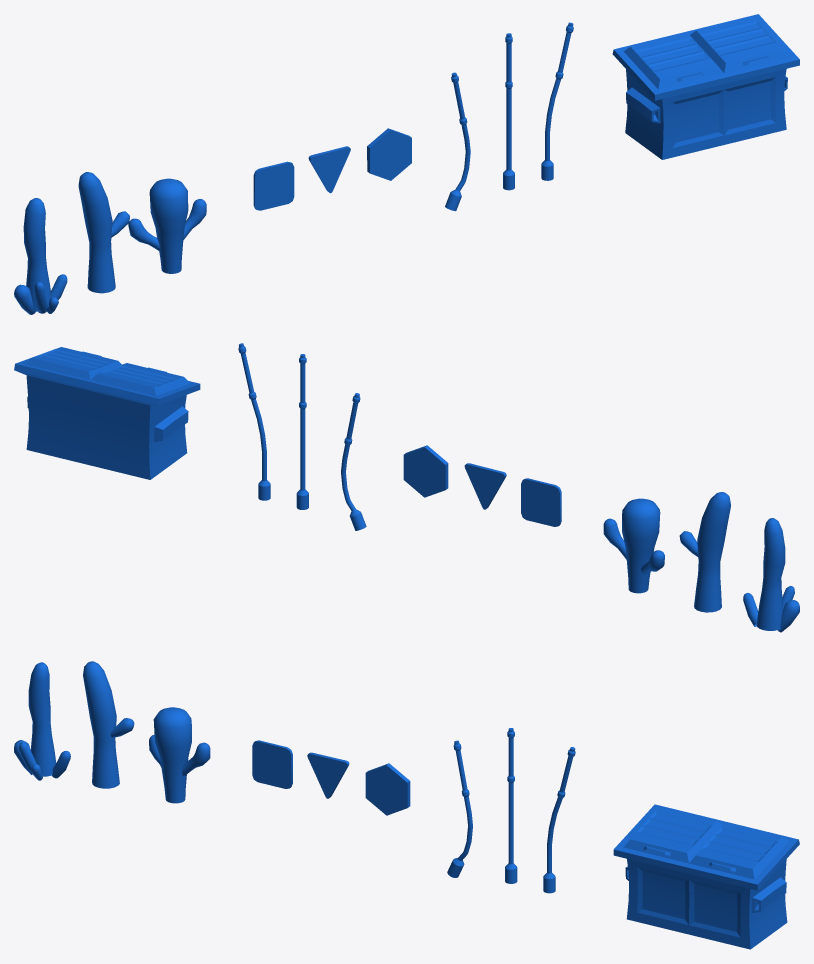
File: SM_Props.fbx
3 renders of one model, top to bottom at view 1: azimuth 30°, elevation 25°; view 2: azimuth 150°, elevation 25°; view 3: azimuth 330°, elevation 25°, orthographic.
Visible parts, largest first — view 1: musorka_low, cactus3_low, cactus2_low, cactus1_low, znak3_low, znak1_low, znak2_low, stolb1_low, stolb2_low, stolb3_low; view 2: musorka_low, cactus3_low, cactus2_low, cactus1_low, znak3_low, znak1_low, znak2_low, stolb1_low, stolb2_low, stolb3_low; view 3: musorka_low, cactus3_low, cactus2_low, cactus1_low, znak3_low, znak1_low, znak2_low, stolb1_low, stolb2_low, stolb3_low.
Part boxes in pixels (left/top/right/bottom): musorka_low: left=612, top=14, right=799, bottom=159; cactus3_low: left=128, top=178, right=206, bottom=273; cactus2_low: left=78, top=172, right=129, bottom=293; cactus1_low: left=14, top=198, right=67, bottom=314; znak3_low: left=367, top=128, right=411, bottom=180; znak1_low: left=253, top=161, right=294, bottom=210; znak2_low: left=308, top=146, right=350, bottom=193; stolb1_low: left=503, top=33, right=514, bottom=190; stolb2_low: left=541, top=22, right=573, bottom=180; stolb3_low: left=445, top=72, right=470, bottom=211; musorka_low: left=14, top=347, right=200, bottom=479; cactus3_low: left=603, top=498, right=664, bottom=593; cactus2_low: left=679, top=492, right=730, bottom=612; cactus1_low: left=743, top=518, right=799, bottom=632; znak3_low: left=403, top=445, right=448, bottom=497; znak1_low: left=521, top=478, right=561, bottom=526; znak2_low: left=464, top=463, right=506, bottom=509; stolb1_low: left=296, top=354, right=308, bottom=509; stolb2_low: left=238, top=343, right=270, bottom=500; stolb3_low: left=341, top=393, right=366, bottom=530; musorka_low: left=613, top=804, right=799, bottom=949; cactus3_low: left=149, top=707, right=210, bottom=803; cactus2_low: left=83, top=661, right=134, bottom=788; cactus1_low: left=14, top=662, right=70, bottom=780; znak3_low: left=365, top=763, right=410, bottom=815; znak1_low: left=252, top=740, right=292, bottom=788; znak2_low: left=307, top=752, right=349, bottom=798; stolb1_low: left=505, top=728, right=517, bottom=883; stolb2_low: left=543, top=747, right=575, bottom=893; stolb3_low: left=447, top=740, right=472, bottom=877.
Size of the model in its own units: 14.09 by 2.86 by 1.36.
